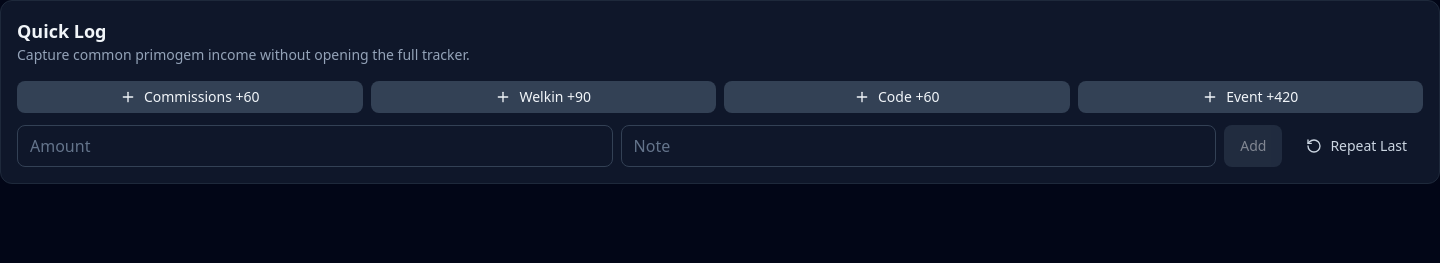
Scenario: QuickResourceLogger › logs a preset primogem income entry
This screenshot has width=1440, height=263.
Click the button "Commissions +60" at (190, 97), box 17,81 -> 362,113
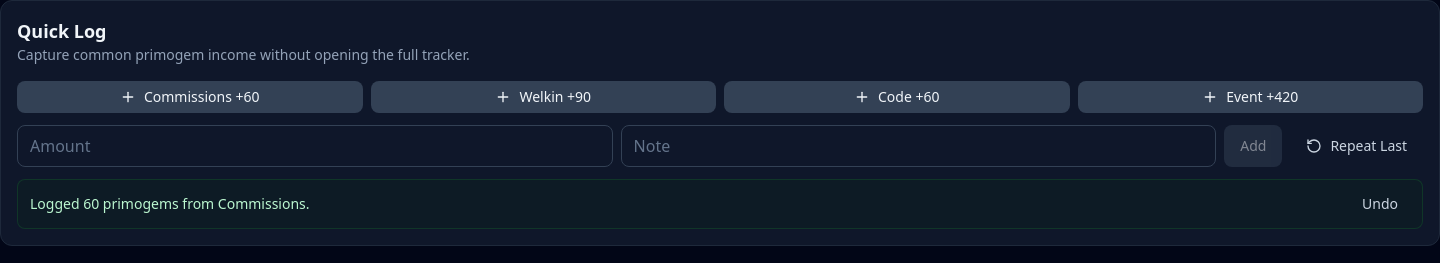
Now the text "Logged 60 primogems from Commissions." is shown, box 30,194 -> 310,214
